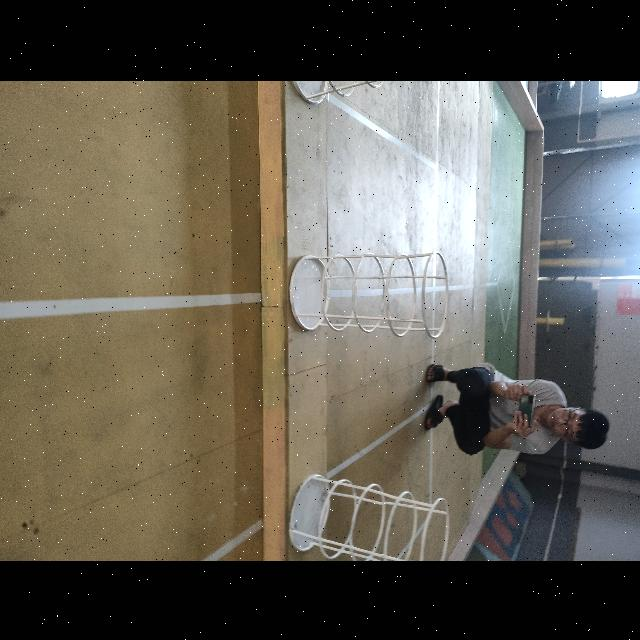S: (285, 471, 454, 560), (286, 248, 452, 338), (290, 80, 398, 105)
